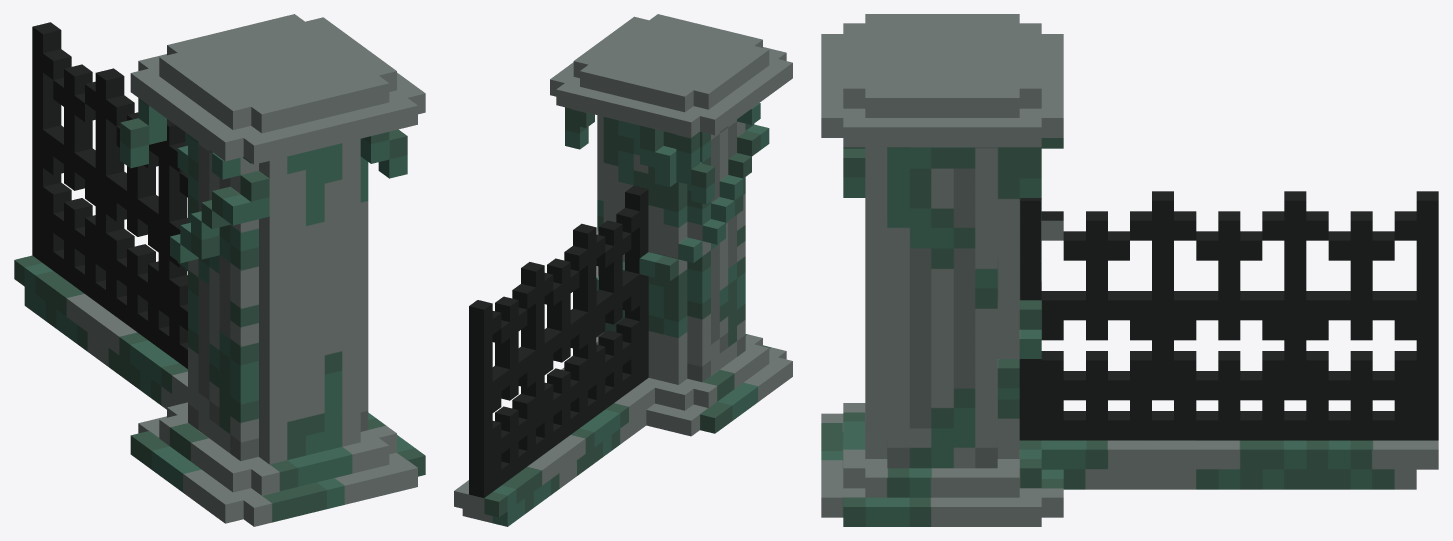
File: fence left.fbx
3 views of the same model, side by side, from view 1: azimuth 30°, elevation 25°; view 2: azimuth 150°, elevation 25°; view 3: azimuth 270°, elevation 25° (orthographic). The views are drawn at different scales.
Visible parts, largest first — view 1: fences left; view 2: fences left; view 3: fences left.
Part boxes in pixels (x1,y1,x2,y2): fences left: (14, 14, 425, 526); fences left: (454, 14, 792, 526); fences left: (821, 14, 1438, 526).
Bounding box in the file's own units: 3.72 × 7.09 × 9.46.
